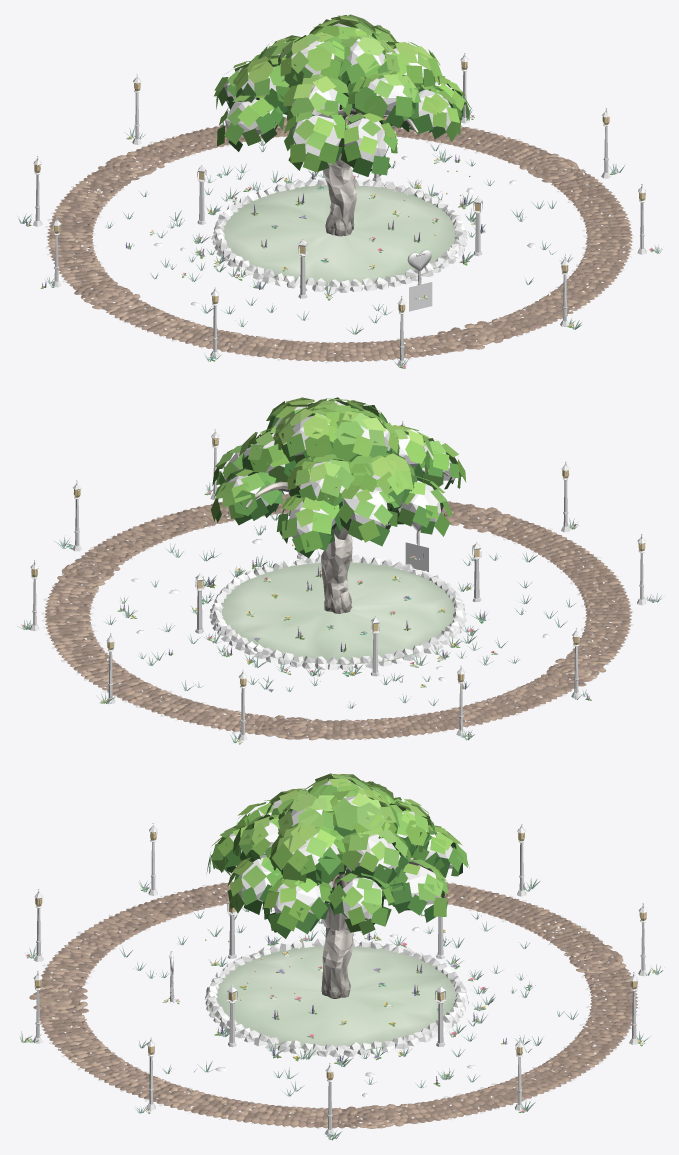
File: zon_plaza_lite.glb
3 views of the same model, one above another, from view 1: azimuth 30°, elevation 25°; view 2: azimuth 150°, elevation 25°; view 3: azimuth 270°, elevation 25° (orthographic). The views are drawn at different scales.
Parts seen in each view (by area): view 1: SM_plaza_paths_stone_vc_xm1_zm1, SM_plaza_veg_ground_vc_xm1_zm1, SM_zon_plaza_lite_willow_canopy_q2, SM_plaza_kit_plaza_x0_zm1, SM_zon_plaza_lite_willow_canopy_q3, SM_zon_plaza_lite_willow_canopy_q1, SM_plaza_tuft_x0_zm1, SM_zon_plaza_lite_willow_trunk, SM_zon_plaza_lite_willow_canopy_core_q2, SM_plaza_vc_palette_xm1_zm1, SM_zon_plaza_lite_willow_canopy_core_q3, SM_zon_plaza_lite_willow_canopy_q0 (+3 smaller); view 2: SM_plaza_paths_stone_vc_xm1_zm1, SM_plaza_veg_ground_vc_xm1_zm1, SM_zon_plaza_lite_willow_canopy_q1, SM_plaza_kit_plaza_x0_zm1, SM_zon_plaza_lite_willow_canopy_q0, SM_plaza_tuft_x0_zm1, SM_zon_plaza_lite_willow_canopy_q2, SM_zon_plaza_lite_willow_trunk, SM_zon_plaza_lite_willow_canopy_core_q1, SM_plaza_vc_palette_xm1_zm1, SM_zon_plaza_lite_willow_canopy_q3, SM_zon_plaza_lite_willow_canopy_core_q0 (+3 smaller); view 3: SM_plaza_paths_stone_vc_xm1_zm1, SM_plaza_veg_ground_vc_xm1_zm1, SM_plaza_kit_plaza_x0_zm1, SM_zon_plaza_lite_willow_canopy_q0, SM_zon_plaza_lite_willow_canopy_q3, SM_plaza_tuft_x0_zm1, SM_zon_plaza_lite_willow_canopy_q1, SM_zon_plaza_lite_willow_trunk, SM_zon_plaza_lite_willow_canopy_q2, SM_zon_plaza_lite_willow_canopy_core_q3, SM_zon_plaza_lite_willow_canopy_core_q0, SM_plaza_vc_palette_xm1_zm1 (+1 smaller).
Part boxes in pixels (x1,y1,x2,y2): SM_plaza_paths_stone_vc_xm1_zm1: (46,115,632,362); SM_plaza_veg_ground_vc_xm1_zm1: (214,183,464,286); SM_zon_plaza_lite_willow_canopy_q2: (224,36,397,176); SM_plaza_kit_plaza_x0_zm1: (33,52,646,365); SM_zon_plaza_lite_willow_canopy_q3: (341,29,470,144); SM_zon_plaza_lite_willow_canopy_q1: (214,23,344,151); SM_plaza_tuft_x0_zm1: (18,107,662,367); SM_zon_plaza_lite_willow_trunk: (293,109,418,236); SM_zon_plaza_lite_willow_canopy_core_q2: (240,42,386,168); SM_plaza_vc_palette_xm1_zm1: (25,115,653,368); SM_zon_plaza_lite_willow_canopy_core_q3: (350,38,460,130); SM_zon_plaza_lite_willow_canopy_q0: (293,14,398,48); SM_plaza_paths_stone_vc_xm1_zm1: (44,493,632,740); SM_plaza_veg_ground_vc_xm1_zm1: (215,561,454,664); SM_zon_plaza_lite_willow_canopy_q1: (276,411,450,558); SM_plaza_kit_plaza_x0_zm1: (30,421,646,740); SM_zon_plaza_lite_willow_canopy_q0: (210,407,340,525); SM_plaza_tuft_x0_zm1: (17,482,661,742); SM_zon_plaza_lite_willow_canopy_q2: (347,407,466,516); SM_zon_plaza_lite_willow_trunk: (245,471,449,613); SM_zon_plaza_lite_willow_canopy_core_q1: (289,423,441,538); SM_plaza_vc_palette_xm1_zm1: (22,491,655,744); SM_zon_plaza_lite_willow_canopy_q3: (251,397,380,443); SM_zon_plaza_lite_willow_canopy_core_q0: (224,414,326,512); SM_plaza_paths_stone_vc_xm1_zm1: (29,872,637,1128); SM_plaza_veg_ground_vc_xm1_zm1: (208,945,456,1050); SM_plaza_kit_plaza_x0_zm1: (33,823,647,1134); SM_zon_plaza_lite_willow_canopy_q0: (328,788,450,935); SM_zon_plaza_lite_willow_canopy_q3: (224,793,343,938); SM_plaza_tuft_x0_zm1: (19,878,662,1140); SM_zon_plaza_lite_willow_canopy_q1: (328,774,469,876); SM_zon_plaza_lite_willow_trunk: (231,858,442,998); SM_zon_plaza_lite_willow_canopy_q2: (206,773,339,875); SM_zon_plaza_lite_willow_canopy_core_q3: (238,808,339,914); SM_zon_plaza_lite_willow_canopy_core_q0: (342,794,442,921); SM_plaza_vc_palette_xm1_zm1: (25,882,656,1137).
Size of the model in its own units: 30.1 by 11.25 by 29.29.
